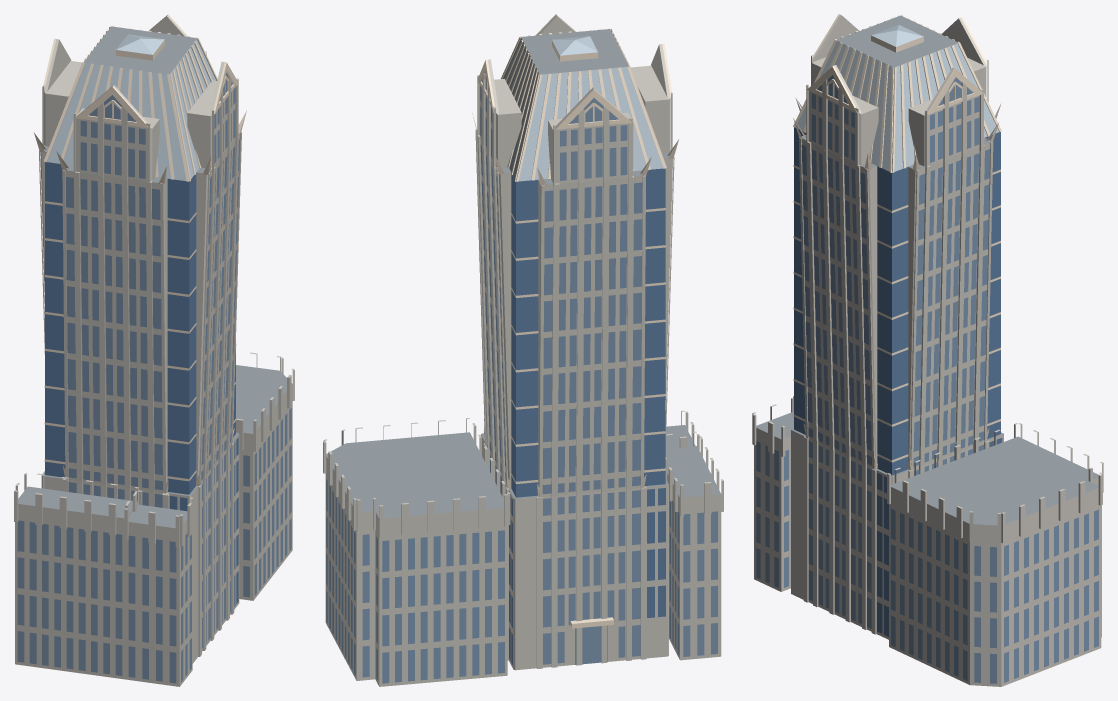
3 views of the same model, side by side, from view 1: azimuth 30°, elevation 25°; view 2: azimuth 150°, elevation 25°; view 3: azimuth 270°, elevation 25° (orthographic). The views are drawn at different scales.
Visible parts, largest first — view 1: truist-center; view 2: truist-center; view 3: truist-center.
Boxes of the visible parts, <box> form: truist-center: <box>14,14,294,686</box>; truist-center: <box>323,14,723,686</box>; truist-center: <box>752,14,1103,686</box>.
Bounding box in the file's own units: 119 × 200 × 113.
